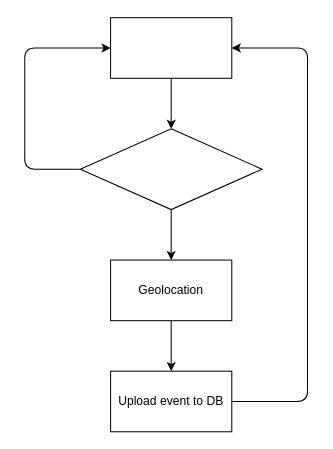
Some shapes in this 333 by 449 pixel diagram are drawn without their labels. The centre of each missing label's shape, as x and y in pixels:
"BLE Scan" goes at [171,47].
"UUID in DB?" goes at [170,169].
